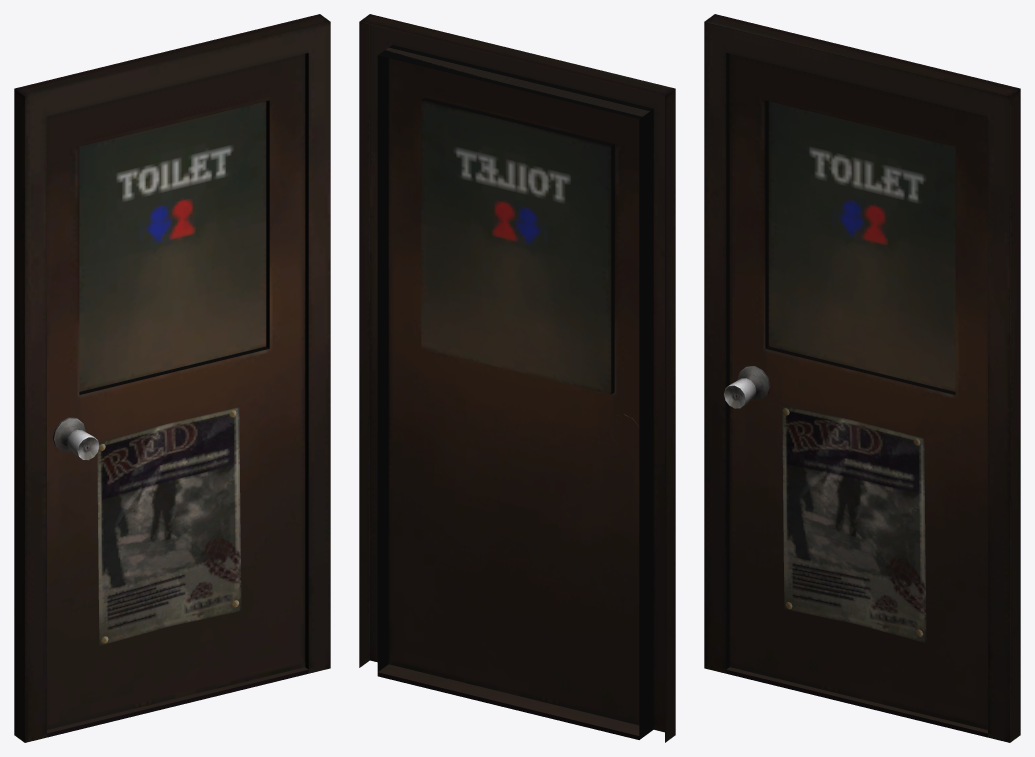
Rendered from 厕所门.fbx.
The picture shows the model from 3 angles, left to right: view 1: azimuth 30°, elevation 25°; view 2: azimuth 150°, elevation 25°; view 3: azimuth 330°, elevation 25°; orthographic projection.
Parts seen in each view (by area): view 1: 繧ｪ繝悶ず繧ｧ繧ｯ繝・7_meshId0.001, door_wc_meshId3.001, 繧ｪ繝悶ず繧ｧ繧ｯ繝・7.001_meshId1.001, 繧ｪ繝悶ず繧ｧ繧ｯ繝・7.002_meshId2.001; view 2: 繧ｪ繝悶ず繧ｧ繧ｯ繝・7_meshId0.001, door_wc_meshId3.001, 繧ｪ繝悶ず繧ｧ繧ｯ繝・7.001_meshId1.001; view 3: 繧ｪ繝悶ず繧ｧ繧ｯ繝・7_meshId0.001, door_wc_meshId3.001, 繧ｪ繝悶ず繧ｧ繧ｯ繝・7.001_meshId1.001, 繧ｪ繝悶ず繧ｧ繧ｯ繝・7.002_meshId2.001.
Boxes of the visible parts, left/top/right/bottom form: 繧ｪ繝悶ず繧ｧ繧ｯ繝・7_meshId0.001: left=47, top=54, right=305, bottom=729; door_wc_meshId3.001: left=14, top=14, right=330, bottom=742; 繧ｪ繝悶ず繧ｧ繧ｯ繝・7.001_meshId1.001: left=79, top=101, right=266, bottom=391; 繧ｪ繝悶ず繧ｧ繧ｯ繝・7.002_meshId2.001: left=97, top=407, right=241, bottom=645; 繧ｪ繝悶ず繧ｧ繧ｯ繝・7_meshId0.001: left=385, top=47, right=649, bottom=725; door_wc_meshId3.001: left=359, top=14, right=675, bottom=742; 繧ｪ繝悶ず繧ｧ繧ｯ繝・7.001_meshId1.001: left=421, top=100, right=611, bottom=394; 繧ｪ繝悶ず繧ｧ繧ｯ繝・7_meshId0.001: left=724, top=54, right=987, bottom=729; door_wc_meshId3.001: left=704, top=14, right=1020, bottom=742; 繧ｪ繝悶ず繧ｧ繧ｯ繝・7.001_meshId1.001: left=768, top=101, right=955, bottom=391; 繧ｪ繝悶ず繧ｧ繧ｯ繝・7.002_meshId2.001: left=782, top=405, right=926, bottom=643.
Size of the model in its own units: 103 by 208 by 17.97.
Materials: 3 (3 with a texture image).
